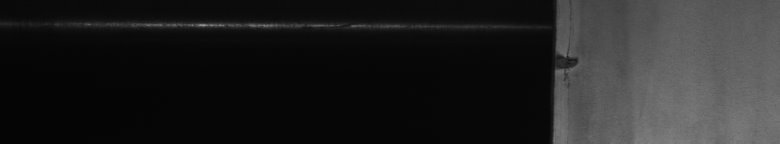hb: (564, 40, 584, 96)
